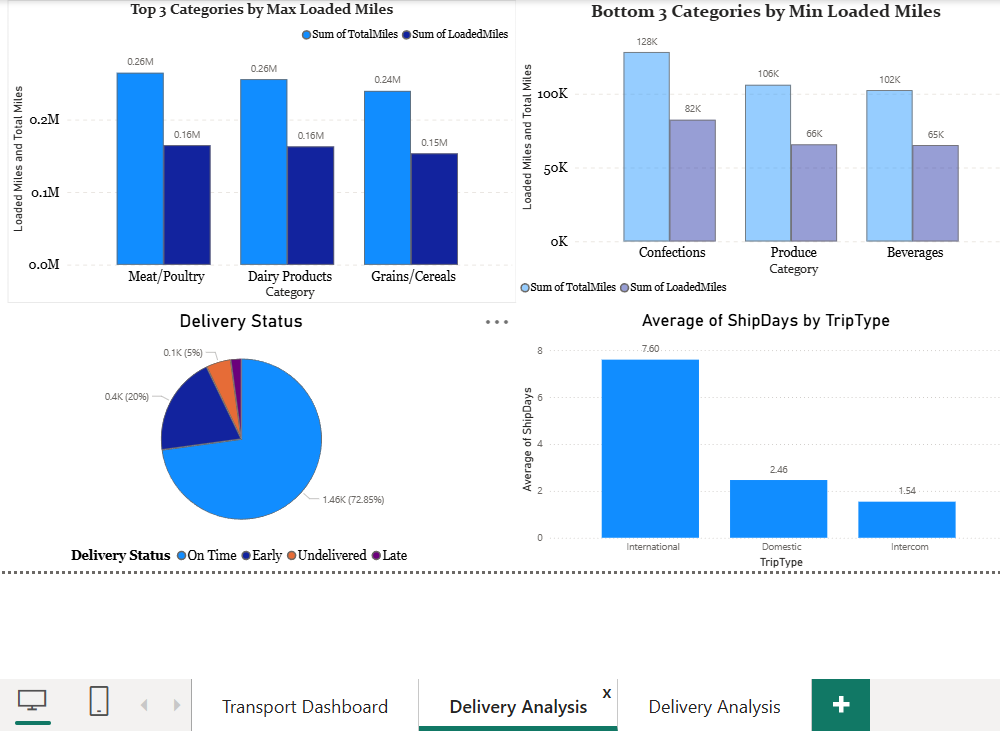

The dashboard page shown, as its layout file describes it:
{"tool":"powerbi","page":{"name":"Delivery Analysis","canvas":[1280,720],"ordinal":1},"visuals":[{"type":"clusteredColumnChart","title":"Top 3 Categories by Max Loaded Miles","fields":{"Category":["Categories.CategoryName"],"Y":["Sum(Trips.TotalMiles)","Sum(Trips.LoadedMiles)"]},"box":[9.6,0,640.8,381.5],"z":0},{"type":"clusteredColumnChart","title":"Bottom 3 Categories by Min Loaded Miles","fields":{"Category":["Categories.CategoryName"],"Y":["Sum(Trips.TotalMiles)","Sum(Trips.LoadedMiles)"]},"box":[650.4,0,629.8,381.5],"z":1000},{"type":"pieChart","title":"Delivery Status ","fields":{"Category":["Trips.Delivery Status"],"Y":["CountNonNull(Trips.TripID)"]},"box":[9.6,391.1,588.7,329.3],"z":2000},{"type":"clusteredColumnChart","fields":{"Category":["Trips.TripType"],"Y":["Avg(Trips.ShipDays)"]},"box":[650,391,630,329],"z":3000}]}

Visuals, with their boxes on the page's 1280x720 design canvas (x1, y1, x2, y2). These are canvas units, not pixel positions in the 1000x731 screenshot, which may show the page scaled, cropped or inside an application window:
"Top 3 Categories by Max Loaded Miles" clusteredColumnChart: [x1=10, y1=0, x2=650, y2=382]
"Bottom 3 Categories by Min Loaded Miles" clusteredColumnChart: [x1=650, y1=0, x2=1280, y2=382]
"Delivery Status " pieChart: [x1=10, y1=391, x2=598, y2=720]
clusteredColumnChart - Trips.TripType x Avg(Trips.ShipDays): [x1=650, y1=391, x2=1280, y2=720]
